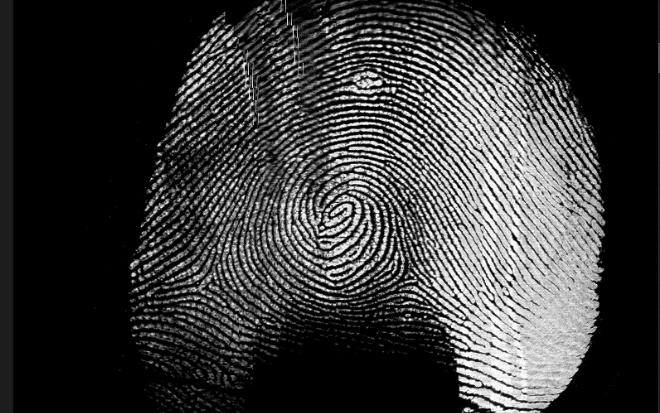deltas: (180, 252, 235, 302), (380, 250, 435, 297)
nucleo: (309, 189, 365, 236)
